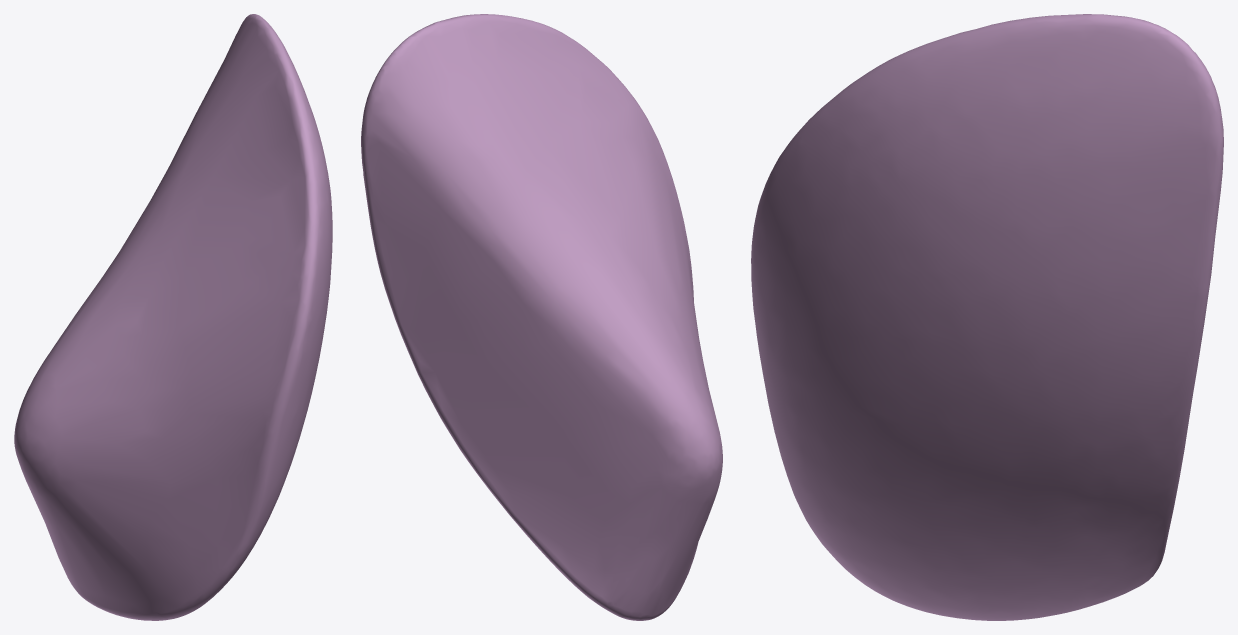
3 renders of one model, left to right at view 1: azimuth 30°, elevation 25°; view 2: azimuth 150°, elevation 25°; view 3: azimuth 270°, elevation 25°, orthographic. The views are drawn at different scales.
Parts seen in each view (by area): view 1: 左侧苍白球; view 2: 左侧苍白球; view 3: 左侧苍白球.
Boxes of the visible parts, bbox=[...] form: 左侧苍白球: bbox=[14, 14, 332, 620]; 左侧苍白球: bbox=[361, 14, 722, 620]; 左侧苍白球: bbox=[751, 14, 1223, 620].
Bounding box in the file's own units: 0.0239 × 0.0419 × 0.0247.
